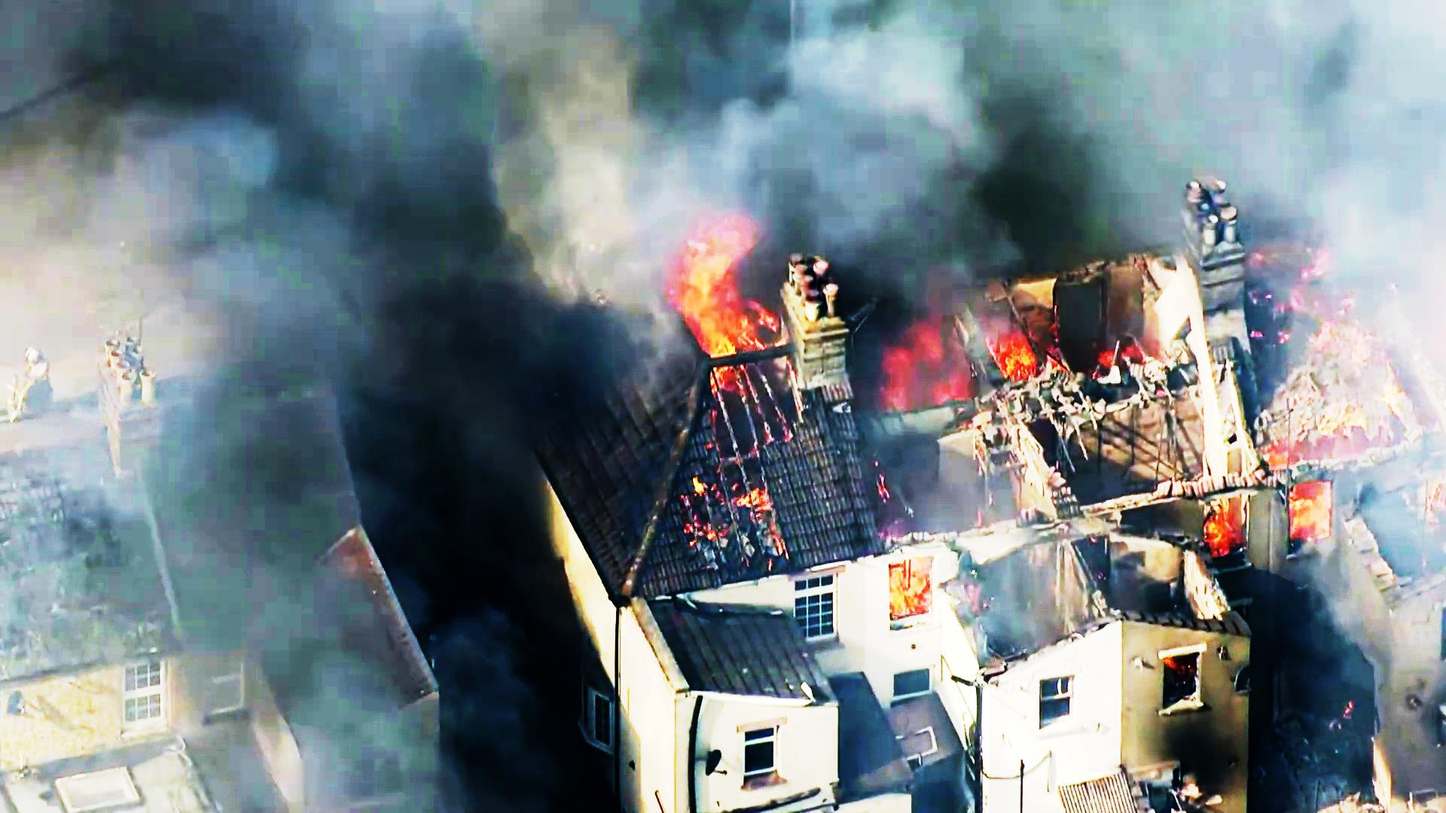fire: (659, 190, 778, 354)
smoke: (0, 0, 433, 275)
